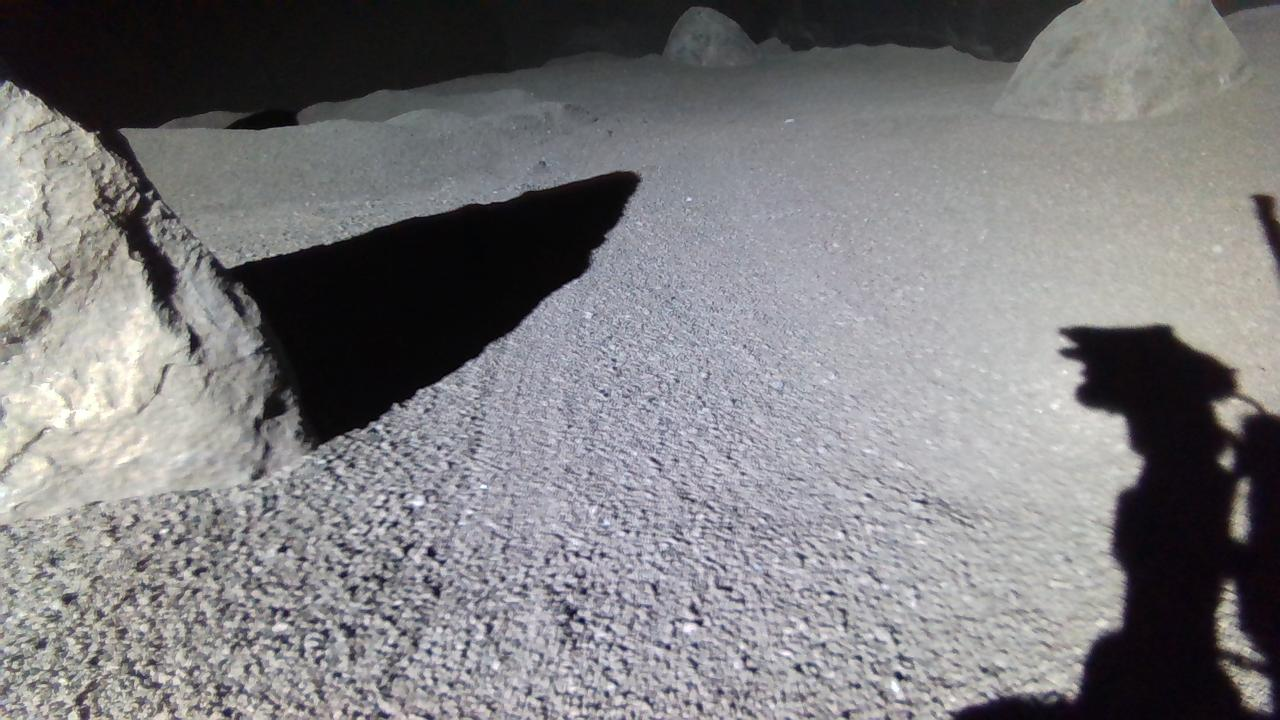rock: (996, 0, 1255, 121), (664, 6, 762, 64)
